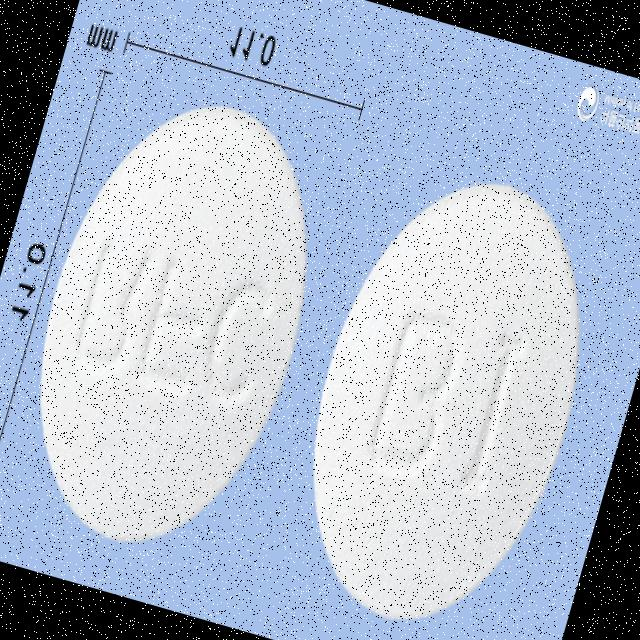Rofsin Tab: (0, 73, 352, 573), (266, 151, 625, 640)
